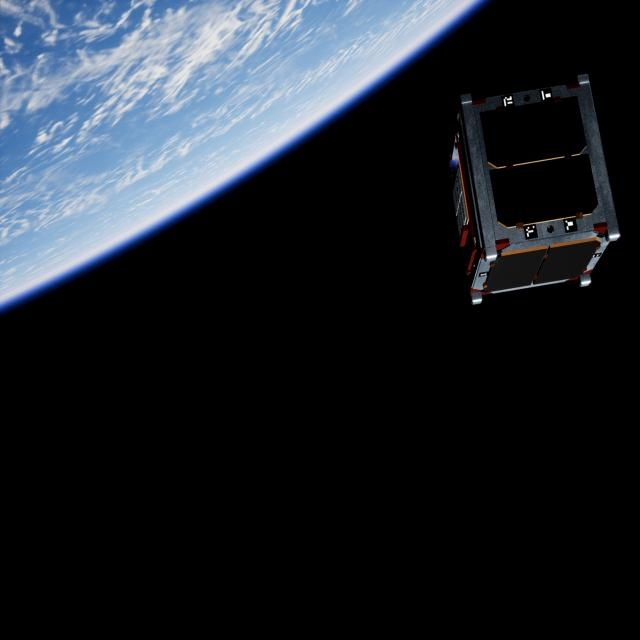medium_debris: (446, 67, 626, 314)
